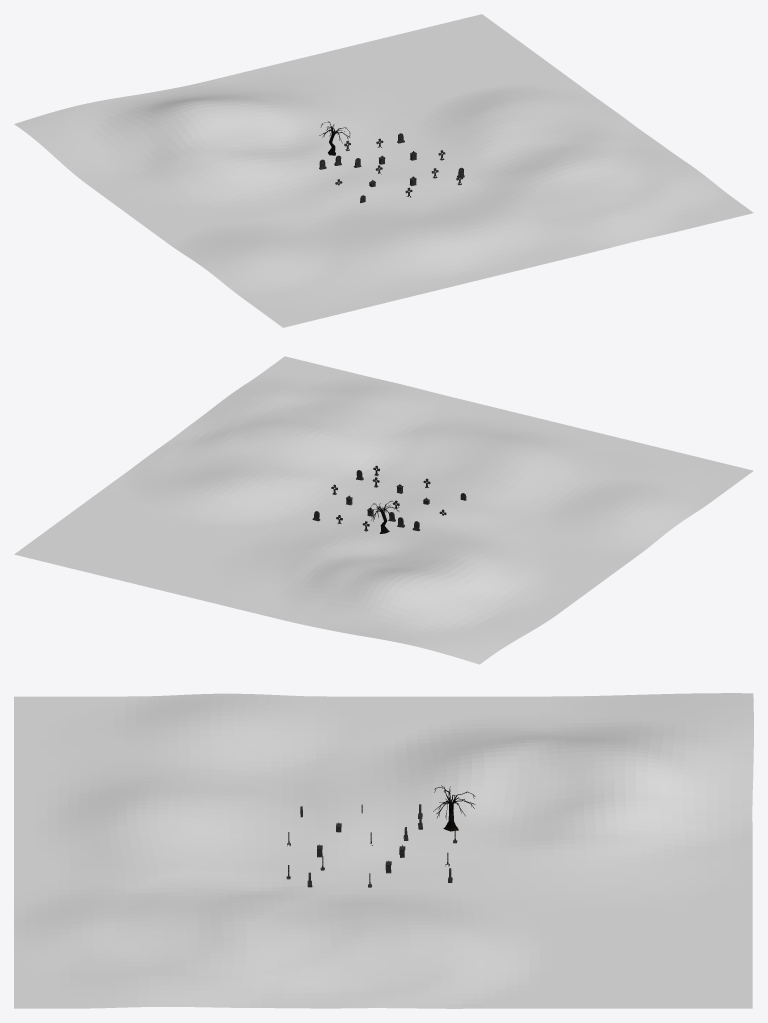
The model's file is GDD Environment(updated) (1).fbx.
The picture shows the model from 3 angles, top to bottom: view 1: azimuth 30°, elevation 25°; view 2: azimuth 150°, elevation 25°; view 3: azimuth 270°, elevation 25°; orthographic projection. The views are drawn at different scales.
Parts seen in each view (by area): view 1: Plane; view 2: Plane; view 3: Plane.
Boxes of the visible parts, x1,y1,x2,y2 form: Plane: (14,14,753,327); Plane: (14,356,753,664); Plane: (14,693,753,1008).
Bounding box in the file's own units: 9456 × 696 × 9467.
